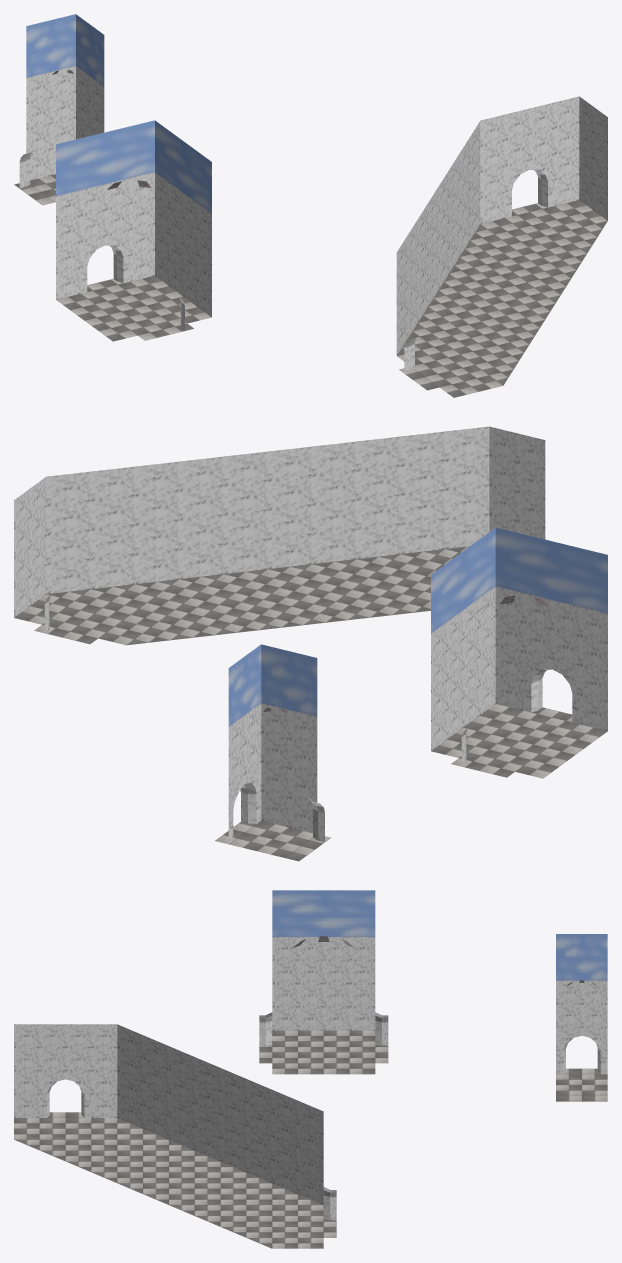
The model's file is Hallway7.glb.
3 views of the same model, one above another, from view 1: azimuth 30°, elevation 25°; view 2: azimuth 150°, elevation 25°; view 3: azimuth 270°, elevation 25° (orthographic). The views are drawn at different scales.
Parts seen in each view (by area): view 1: Walls.006, Floors, Sky.006; view 2: Walls.006, Floors, Sky.006; view 3: Walls.006, Floors, Sky.006.
Boxes of the visible parts, left/top/right/bottom form: Walls.006: left=19, top=66, right=607, bottom=373; Floors: left=14, top=174, right=607, bottom=397; Sky.006: left=26, top=14, right=211, bottom=213; Walls.006: left=14, top=426, right=607, bottom=843; Floors: left=14, top=546, right=607, bottom=861; Sky.006: left=228, top=527, right=607, bottom=726; Walls.006: left=14, top=937, right=607, bottom=1220; Floors: left=14, top=1030, right=607, bottom=1248; Sky.006: left=272, top=890, right=607, bottom=980.
Bounding box in the file's own units: 20 × 6 × 23.01.
4 materials, 4 textured.
